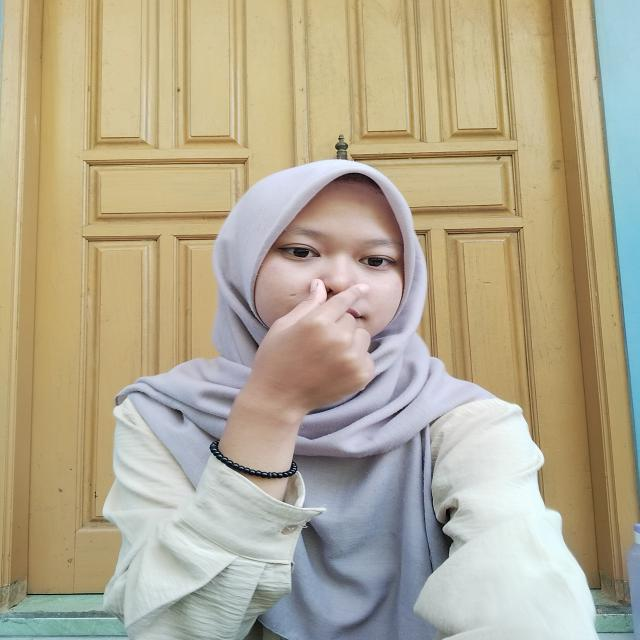bau: (240, 256, 395, 408)
